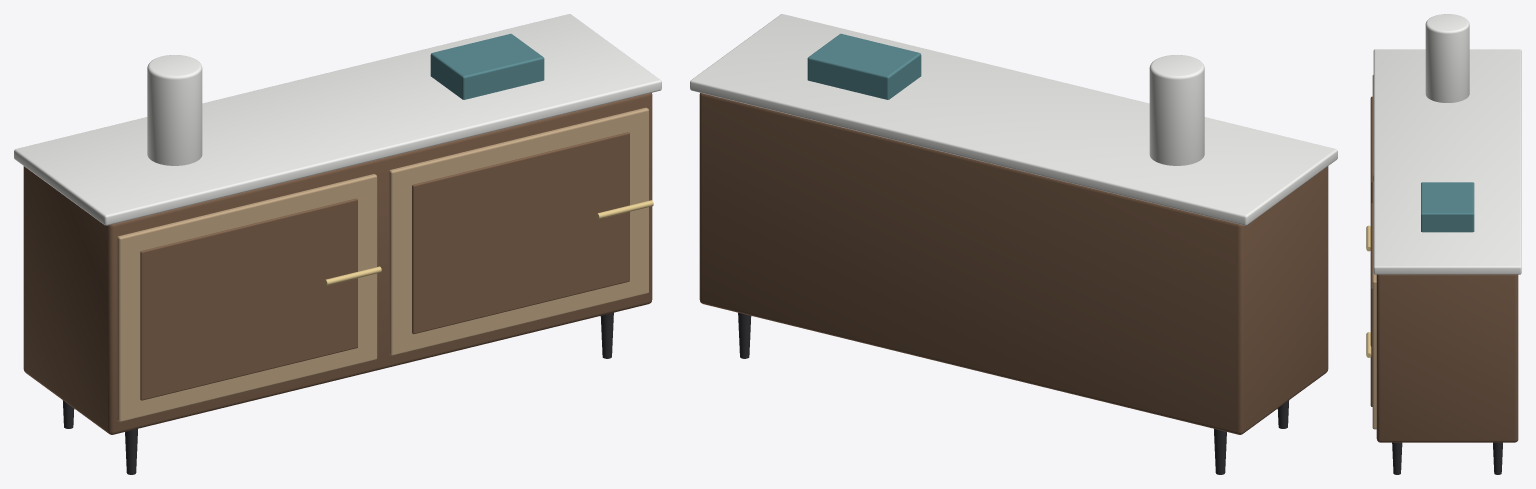
The model's file is modern_sideboard.glb.
The picture shows the model from 3 angles, left to right: view 1: azimuth 30°, elevation 25°; view 2: azimuth 150°, elevation 25°; view 3: azimuth 270°, elevation 25°; orthographic projection. The views are drawn at different scales.
Visible parts, largest first — view 1: top, body, door_panel, door_panel.001, door, door.001, vase_a, book_stack; view 2: body, top, vase_a, book_stack; view 3: top, body, vase_a, book_stack, door.001, door_panel.001, door_panel, leg.002, leg.003, door.
Boxes of the visible parts, x1,y1,x2,y2 form: top: [14, 14, 661, 225]; body: [23, 93, 652, 434]; door_panel: [140, 198, 357, 400]; door_panel.001: [412, 132, 629, 334]; door: [117, 174, 377, 422]; door.001: [389, 107, 648, 355]; vase_a: [147, 55, 202, 165]; book_stack: [430, 33, 544, 99]; body: [699, 93, 1328, 434]; top: [690, 14, 1337, 225]; vase_a: [1149, 55, 1204, 165]; book_stack: [807, 33, 921, 99]; top: [1373, 49, 1521, 274]; body: [1376, 274, 1518, 442]; vase_a: [1425, 14, 1469, 102]; book_stack: [1421, 182, 1474, 232]; door.001: [1372, 181, 1376, 429]; door_panel.001: [1370, 203, 1372, 406]; door_panel: [1370, 96, 1372, 203]; leg.002: [1392, 442, 1402, 474]; leg.003: [1493, 442, 1502, 474]; door: [1372, 75, 1373, 181].
Size of the model in its own units: 1.64 by 1.03 by 0.493.
